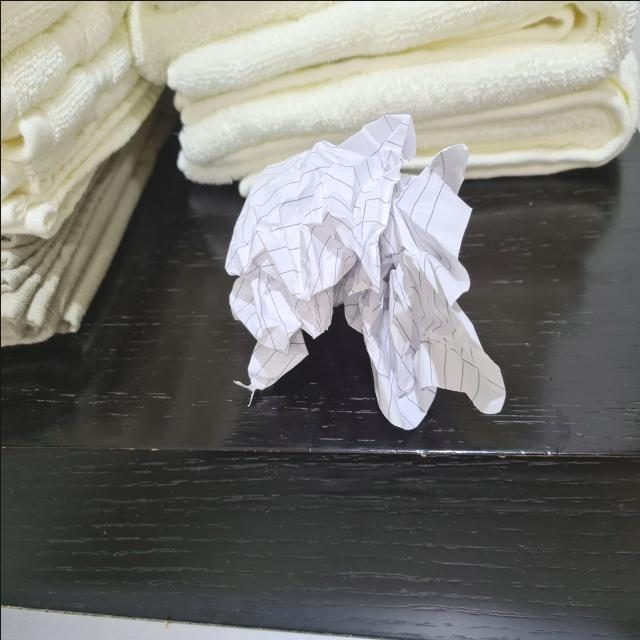Paper: (219, 114, 481, 394)
